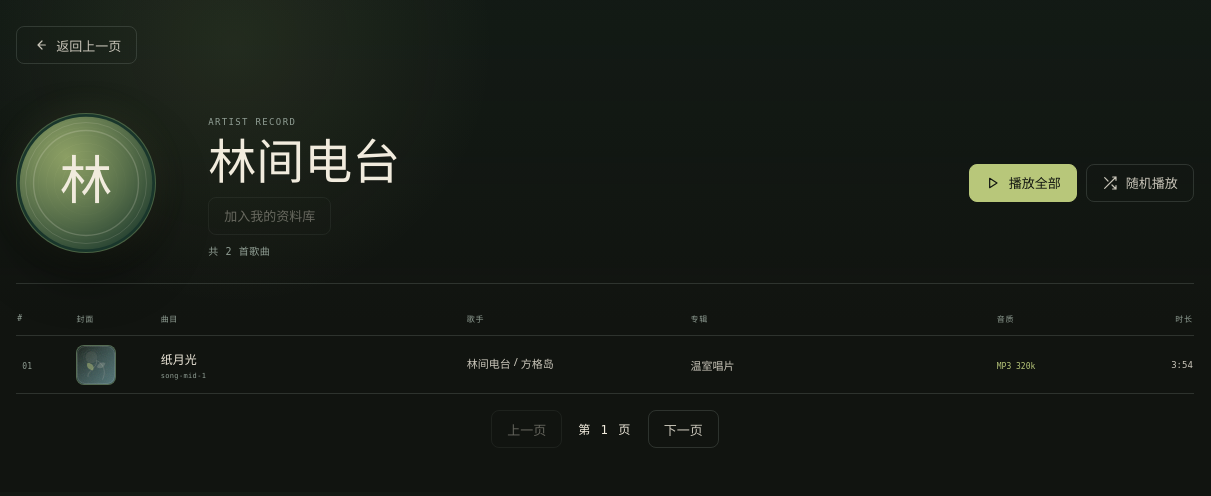
Test: ArtistPage › 支持分页及播放全部/随机播放，并沿用统一集合播放 helper
The image size is (1211, 496).
Expected: the button "纸月光 song-mid-1" is shown, 161,347 -> 218,383
Click the button "随机播放": (1140, 183) 1086,164 -> 1194,202
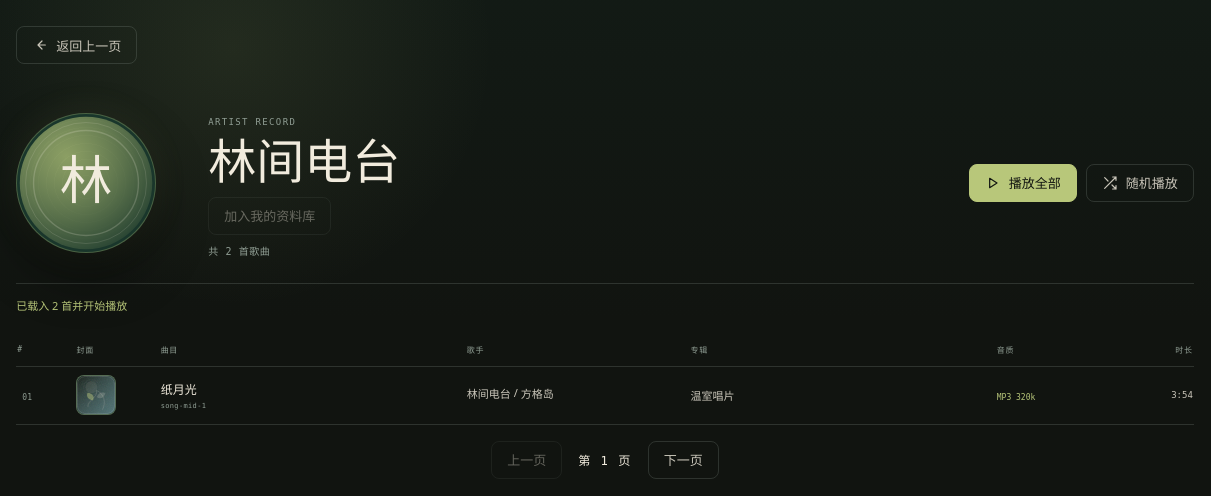
Expected: the text "已载入 2 首并开始播放" is shown, 16,298 -> 127,313
Click the button "下一页": (683, 460) 648,441 -> 719,479
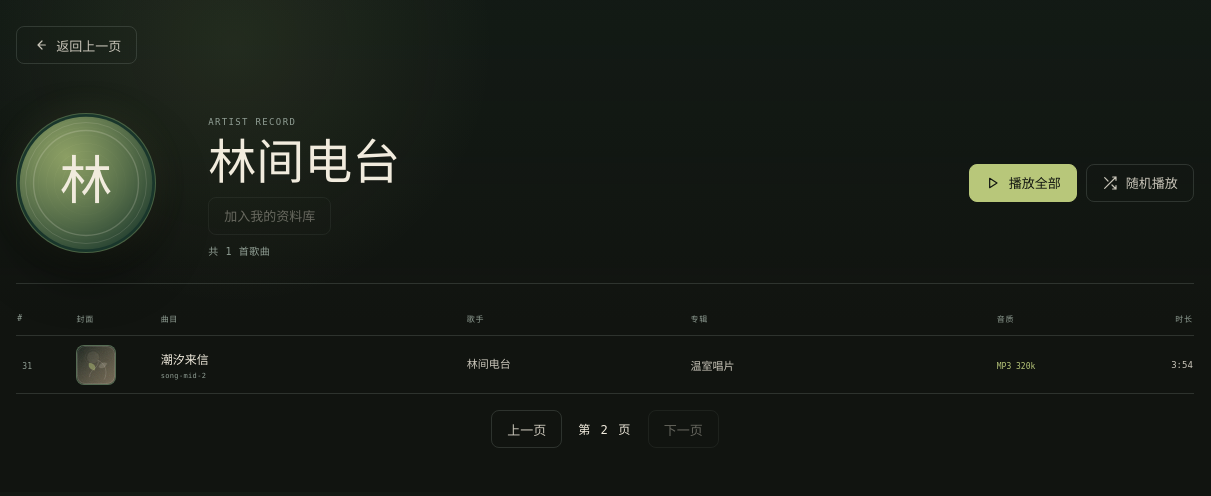
Expected: the button "潮汐来信 song-mid-2" is shown, 161,347 -> 221,383
Expected: the text "31" is shown, 22,362 -> 32,371
